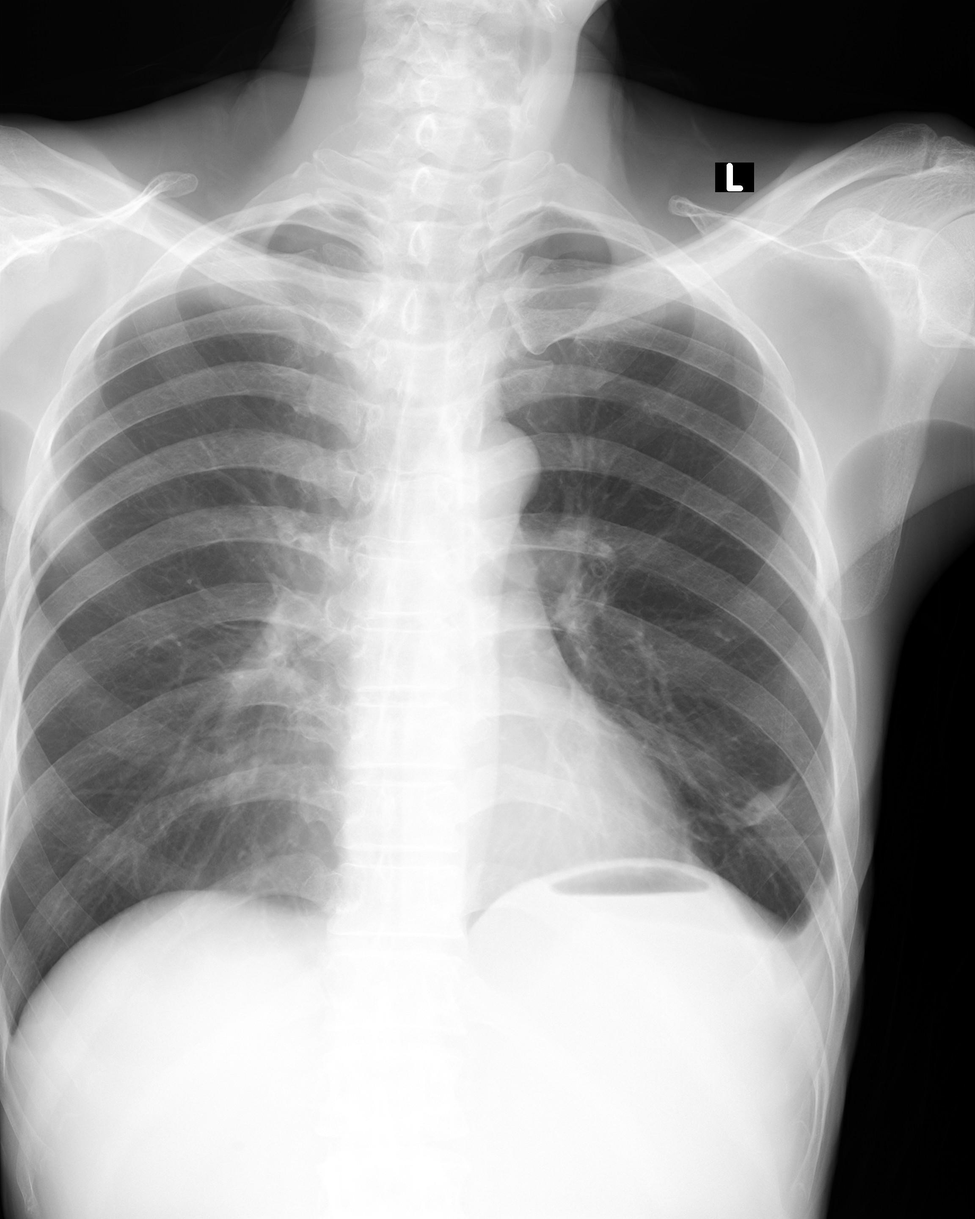Pulmonary fibrosis: (738, 775, 795, 828)
